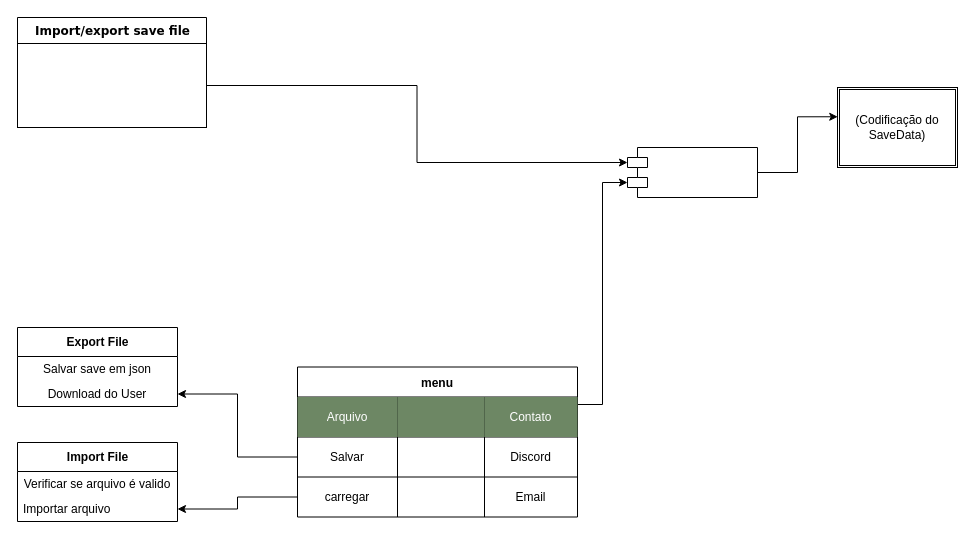
Some shapes in this 975 by 539 pixel diagram are drawn without their labels. The centre of each missing label's shape, as x and y in pixels:
Criação de menu: (692,172)
Criação de sistema de salvamento de informações de usuários: (111,85)
